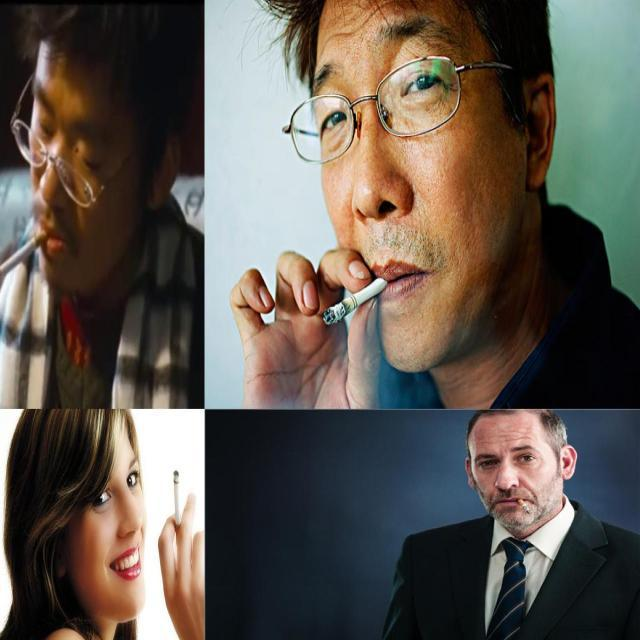smoking: (321, 268, 399, 328), (0, 229, 48, 280), (174, 468, 182, 546), (514, 496, 532, 515)
